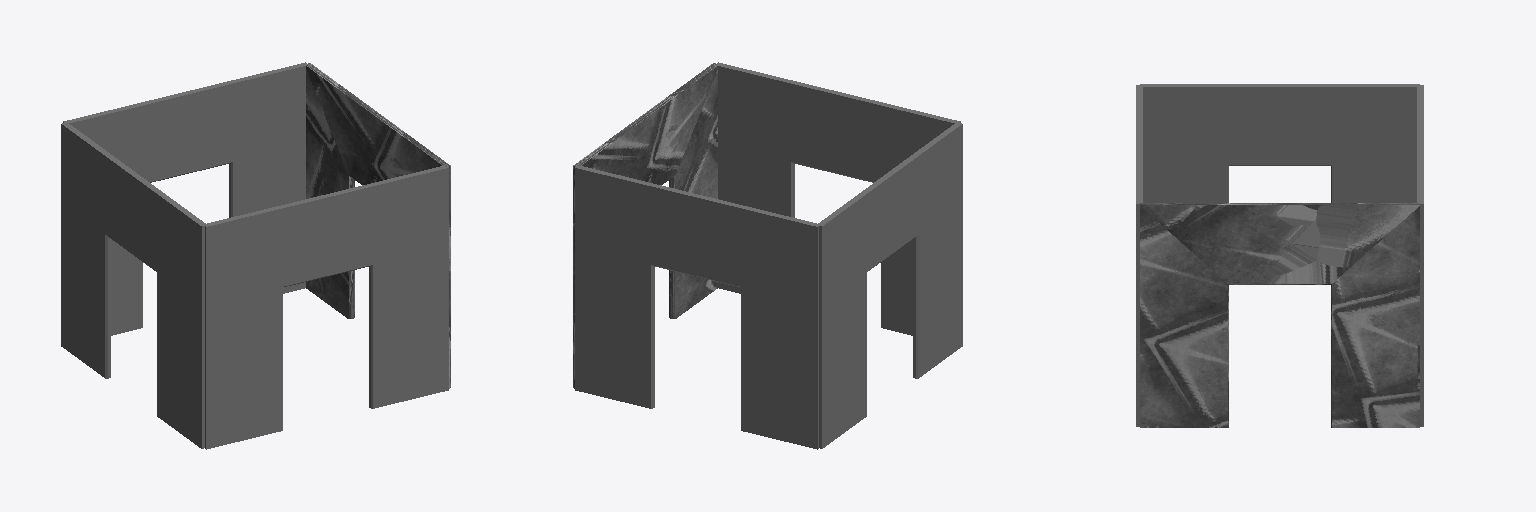
3 renders of one model, left to right at view 1: azimuth 30°, elevation 25°; view 2: azimuth 150°, elevation 25°; view 3: azimuth 270°, elevation 25°, orthographic.
Parts seen in each view (by area): view 1: wall wall, wall wall3, wall wall1, wall wall2; view 2: wall wall1, wall wall3, wall wall, wall wall2; view 3: wall wall2, wall wall3, wall wall, wall wall1.
Part boxes in pixels (left/top/right/bottom): wall wall: left=205, top=165, right=448, bottom=449; wall wall3: left=61, top=122, right=205, bottom=448; wall wall1: left=63, top=62, right=307, bottom=335; wall wall2: left=306, top=63, right=450, bottom=388; wall wall1: left=575, top=165, right=819, bottom=449; wall wall3: left=817, top=122, right=962, bottom=448; wall wall: left=717, top=62, right=960, bottom=335; wall wall2: left=573, top=63, right=717, bottom=388; wall wall2: left=1140, top=203, right=1419, bottom=427; wall wall3: left=1140, top=84, right=1419, bottom=202; wall wall: left=1136, top=85, right=1142, bottom=426; wall wall1: left=1417, top=85, right=1423, bottom=426.
Size of the model in its own units: 410 by 350 by 410.
Materials: 2 (1 with a texture image).